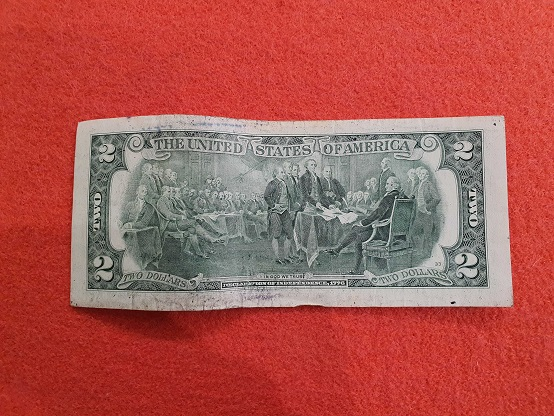2dollar: (70, 115, 515, 311)
